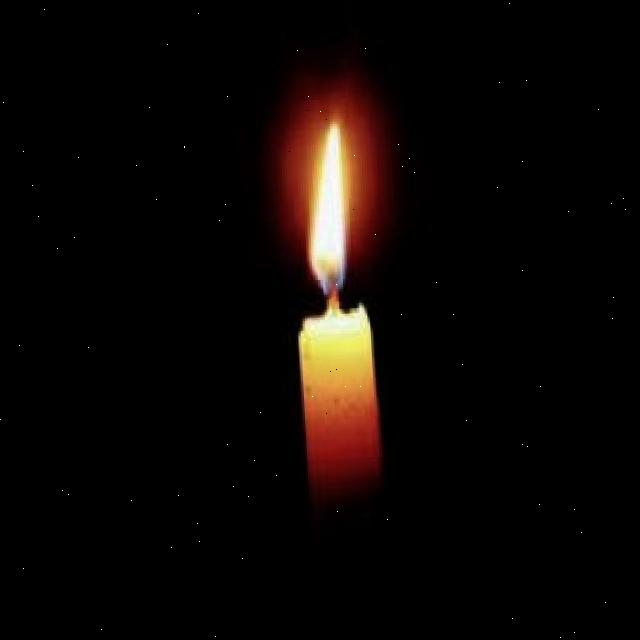fire: (303, 121, 350, 293)
